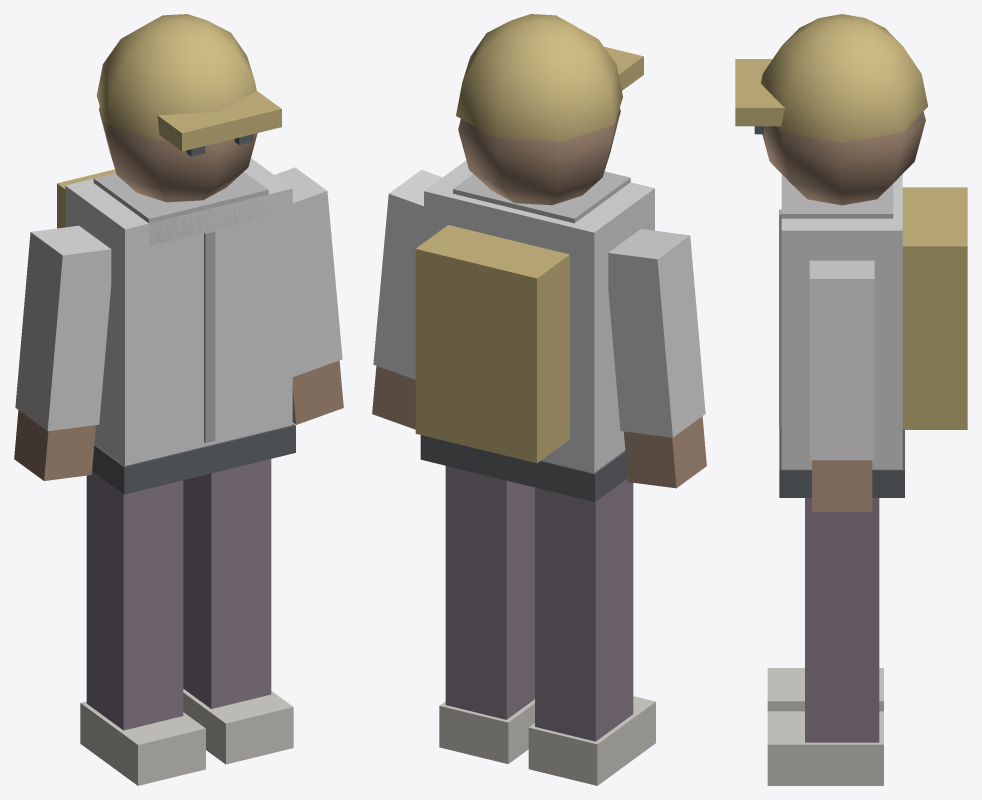
Rendered from walker_3.glb.
3 renders of one model, left to right at view 1: azimuth 30°, elevation 25°; view 2: azimuth 150°, elevation 25°; view 3: azimuth 270°, elevation 25°, orthographic.
Parts seen in each view (by area): view 1: walker_3; view 2: walker_3; view 3: walker_3.
Part boxes in pixels (left/top/right/bottom): walker_3: left=14, top=14, right=343, bottom=785; walker_3: left=372, top=14, right=706, bottom=785; walker_3: left=735, top=14, right=967, bottom=785.
Bounding box in the file's own units: 0.7512 × 1.72 × 0.5.
